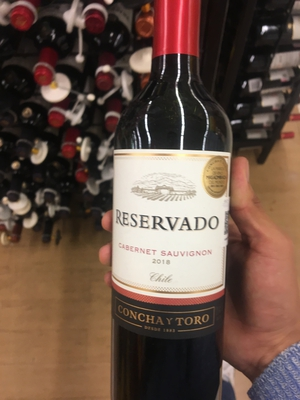reservado cabernet sauvignon: (110, 5, 236, 400)
